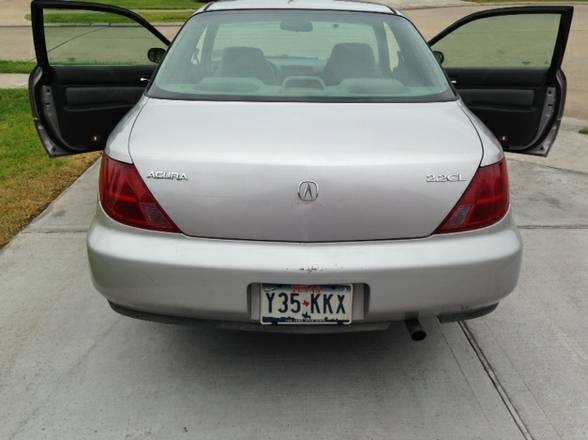acura: (25, 1, 574, 352)
